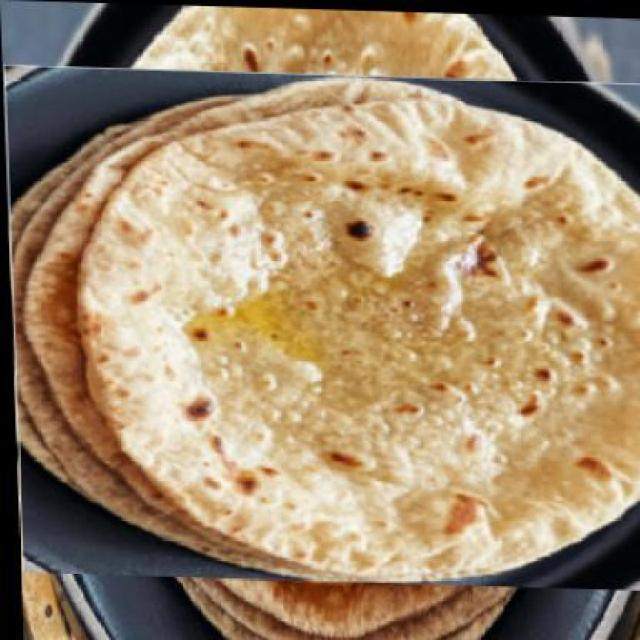chapati: (34, 33, 626, 621)
